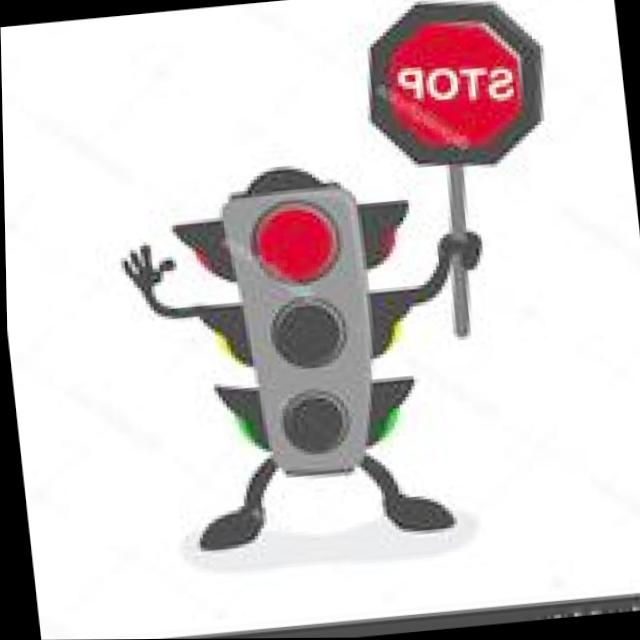red_light: (236, 192, 351, 290)
